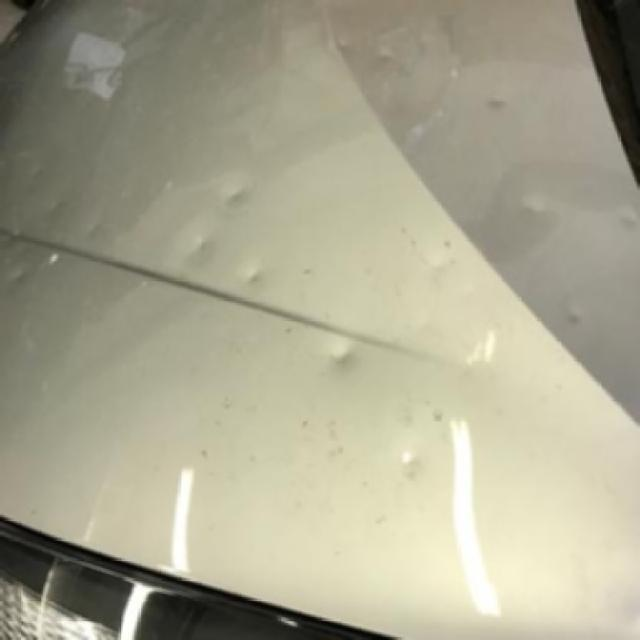dent: (189, 230, 218, 261), (223, 183, 252, 214), (526, 195, 555, 221), (327, 344, 355, 369), (618, 204, 640, 233), (563, 304, 586, 330), (400, 450, 425, 472), (50, 197, 69, 217), (488, 94, 506, 114), (85, 223, 106, 240), (13, 263, 29, 285), (244, 269, 261, 288), (32, 167, 45, 181)
